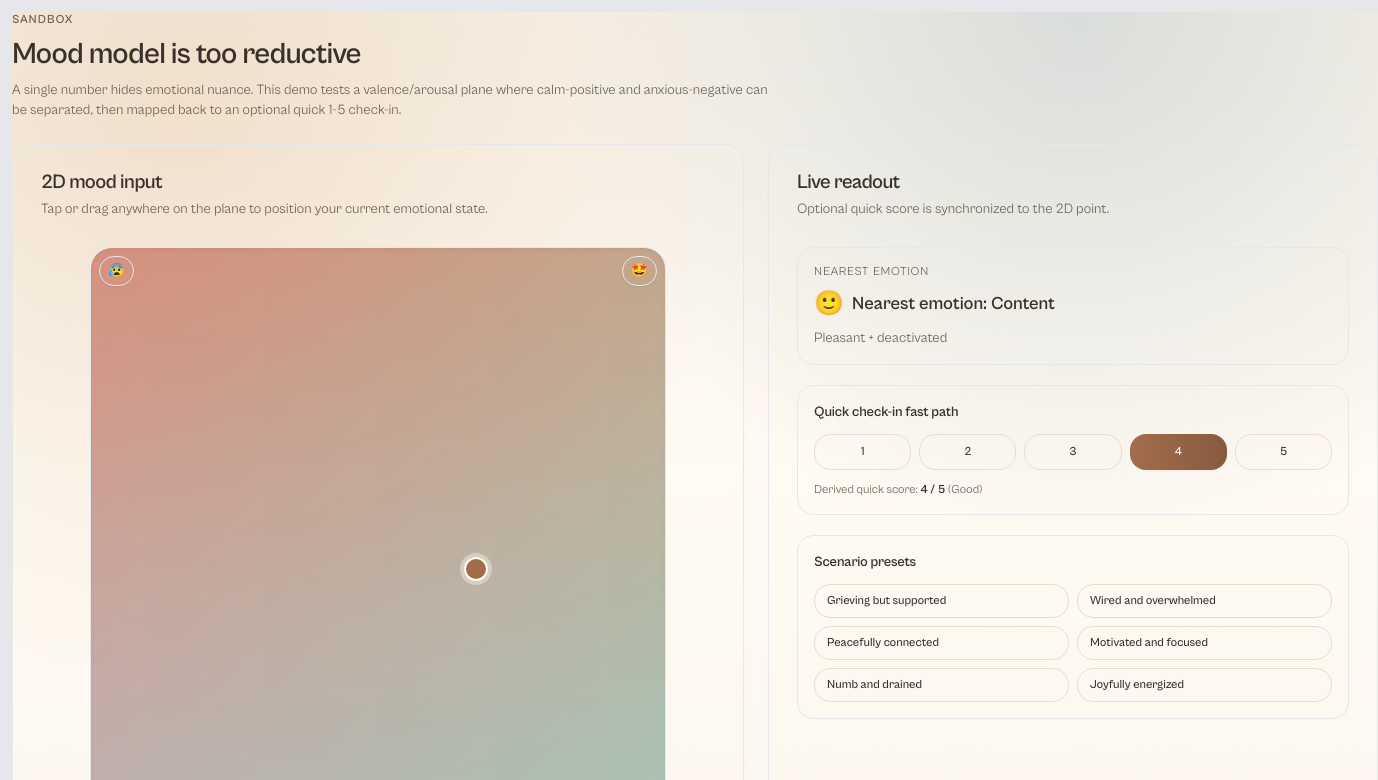
Test case: MoodModelSandbox › updates nearest emotion label when selecting a preset
Click the button "Wired and overwhelmed" at (1204, 601), box [1077,584,1332,618]
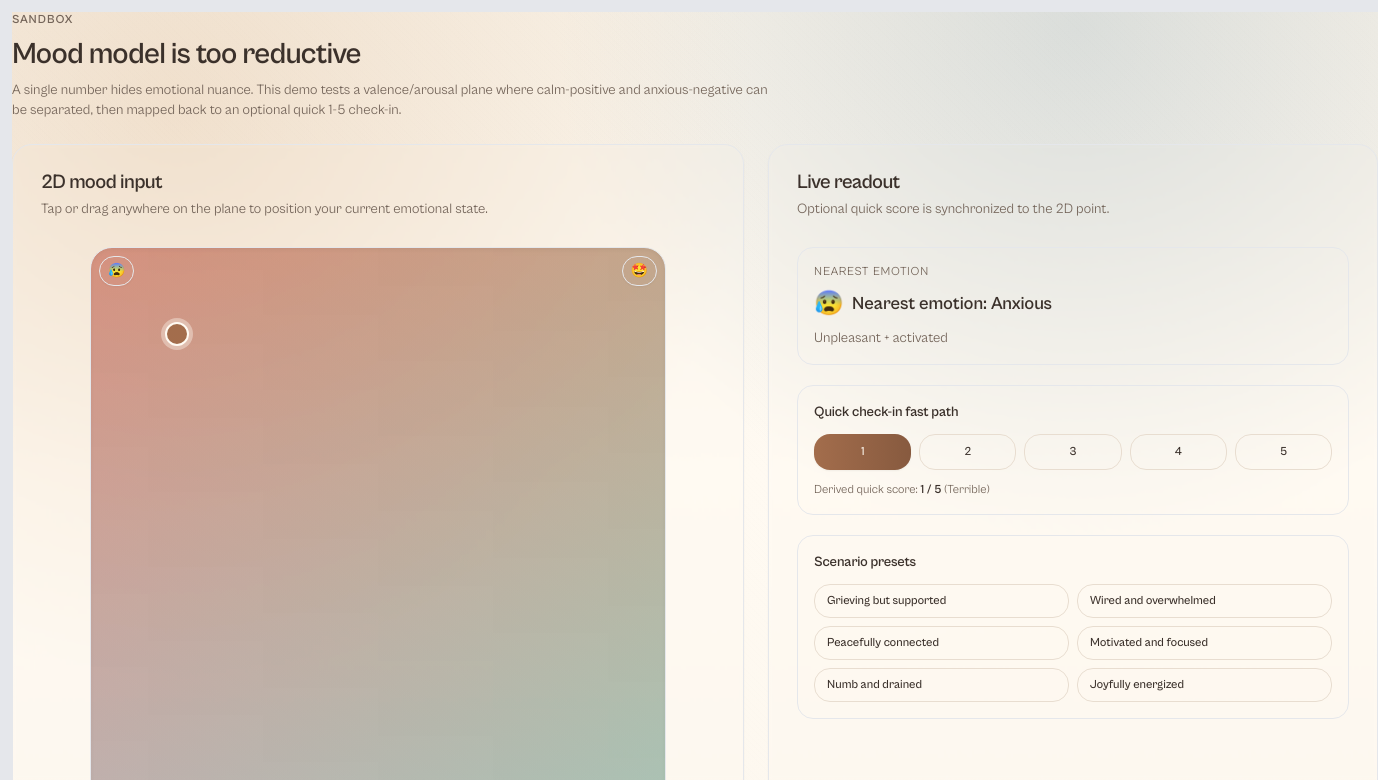
Expected: the text with test id "nearest-emotion-label" shows "Anxious", [991,293,1052,314]
